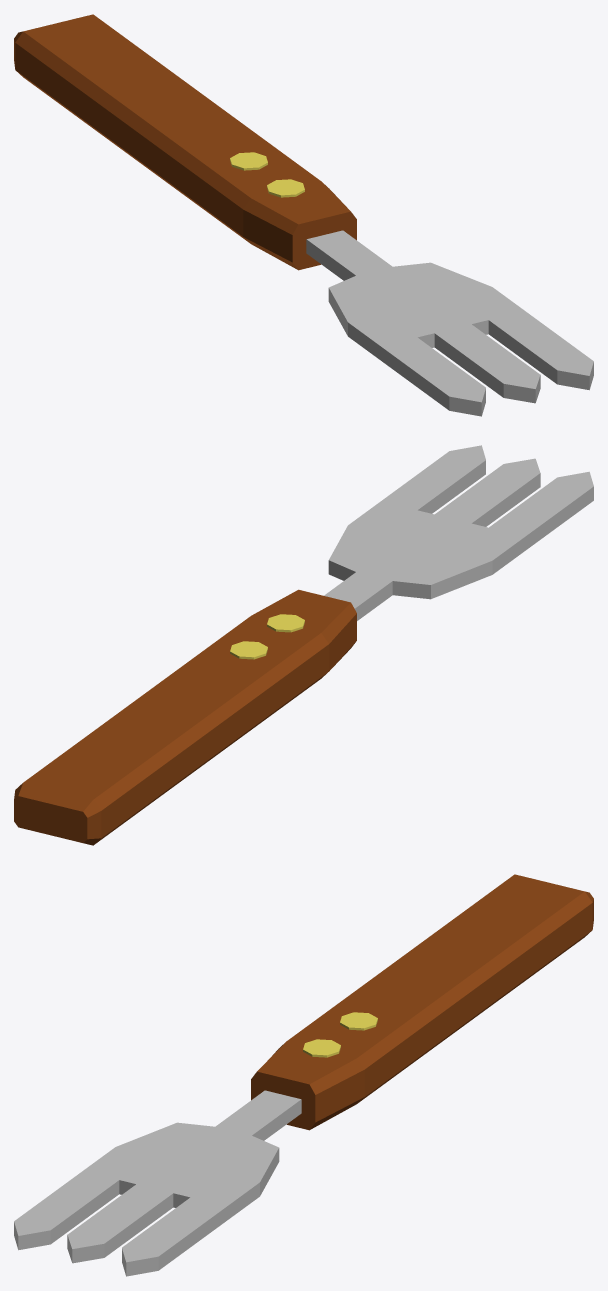
File: Tenedor.fbx
3 renders of one model, top to bottom at view 1: azimuth 30°, elevation 25°; view 2: azimuth 150°, elevation 25°; view 3: azimuth 330°, elevation 25°, orthographic.
Visible parts, largest first — view 1: Tenedor; view 2: Tenedor; view 3: Tenedor.
Boxes of the visible parts, <box> form: Tenedor: <box>14,14,593,416</box>; Tenedor: <box>14,445,593,845</box>; Tenedor: <box>14,874,593,1276</box>.
Size of the model in its own units: 6.04 by 1.92 by 35.1.
